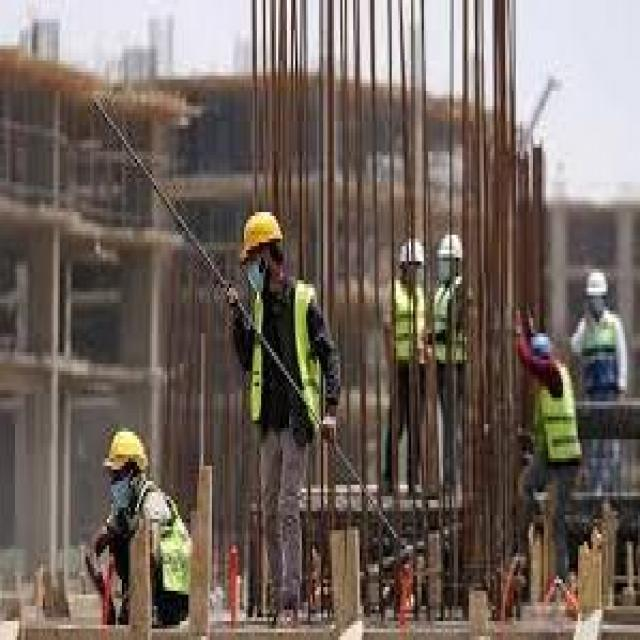Reflective-Jacket: (238, 276, 334, 450), (103, 485, 201, 632), (524, 360, 588, 484), (574, 307, 632, 405), (381, 276, 426, 382)
Safety-Helmet: (94, 417, 154, 492), (233, 197, 291, 273), (392, 227, 428, 280), (432, 224, 469, 272), (578, 262, 614, 310)
